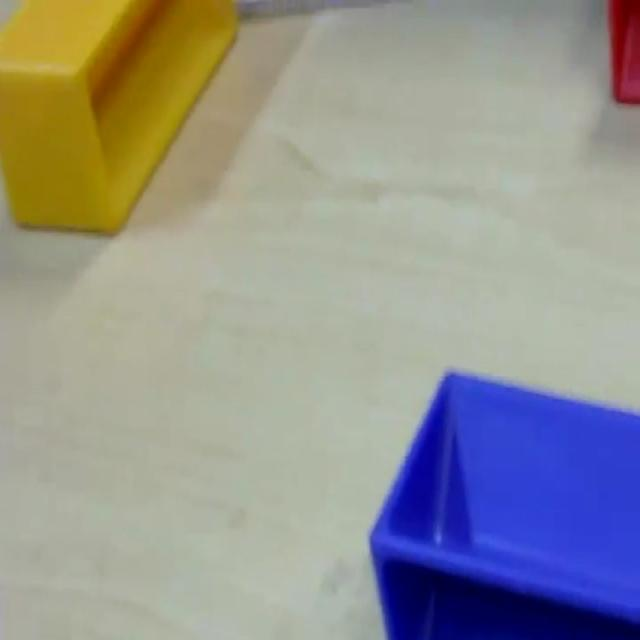blue_block: (368, 364, 638, 636)
yellow_block: (1, 0, 239, 235)
